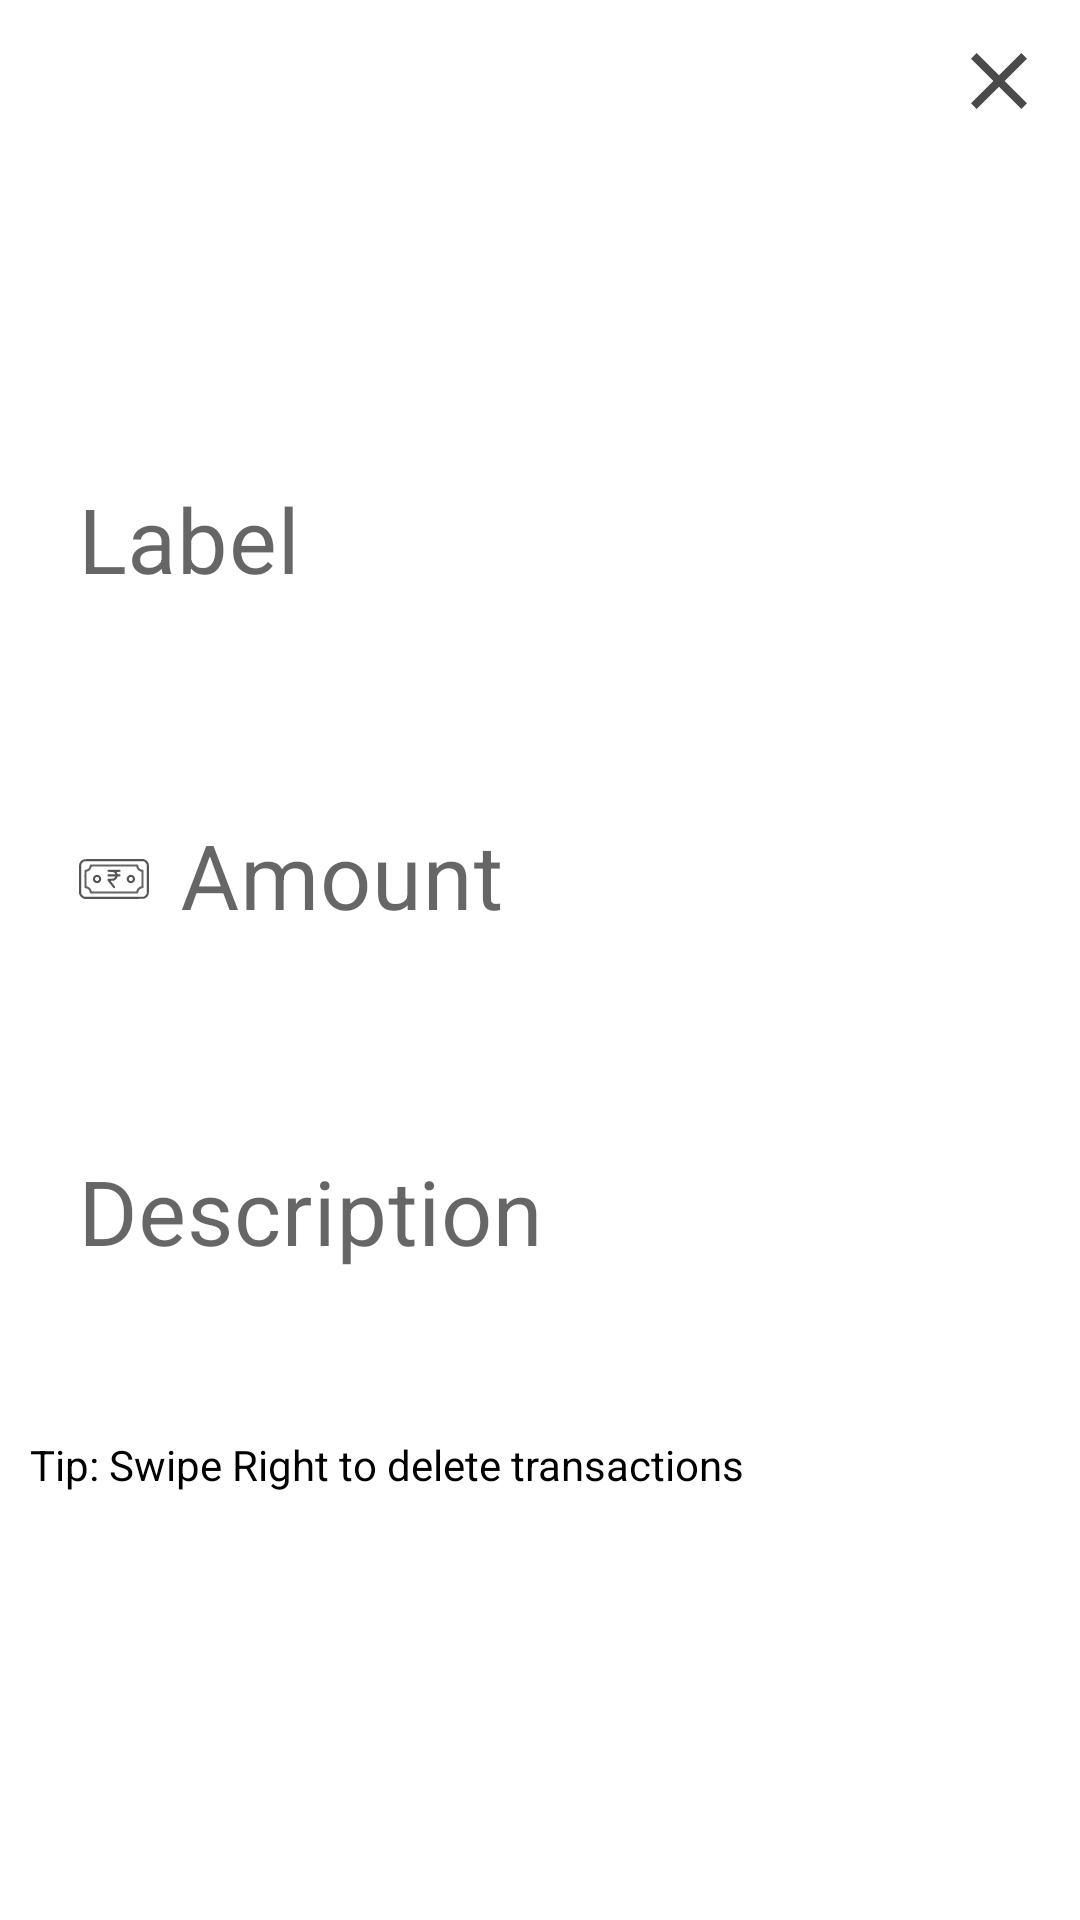

Named icons in this screenshot (1080px x 1920px) and their centers, point (x, y):
close ripple: point (999, 81)
